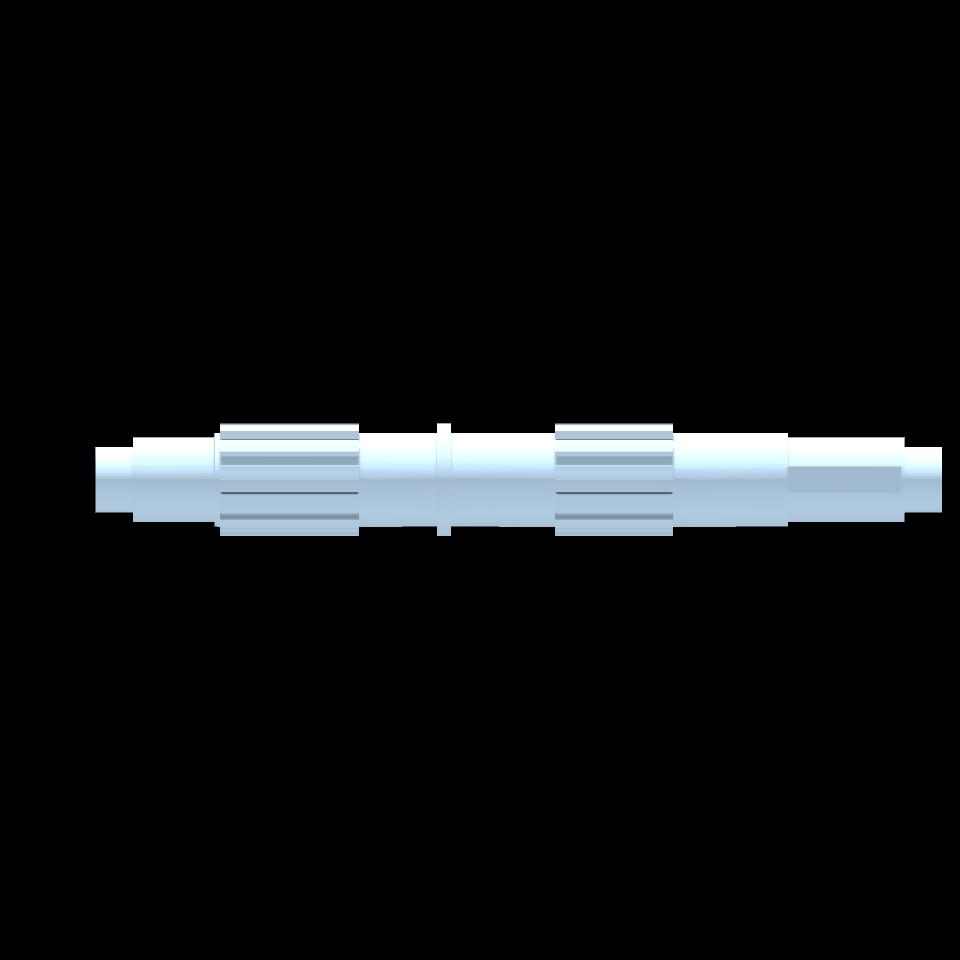Straight: (221, 422, 360, 536), (556, 423, 673, 537)
